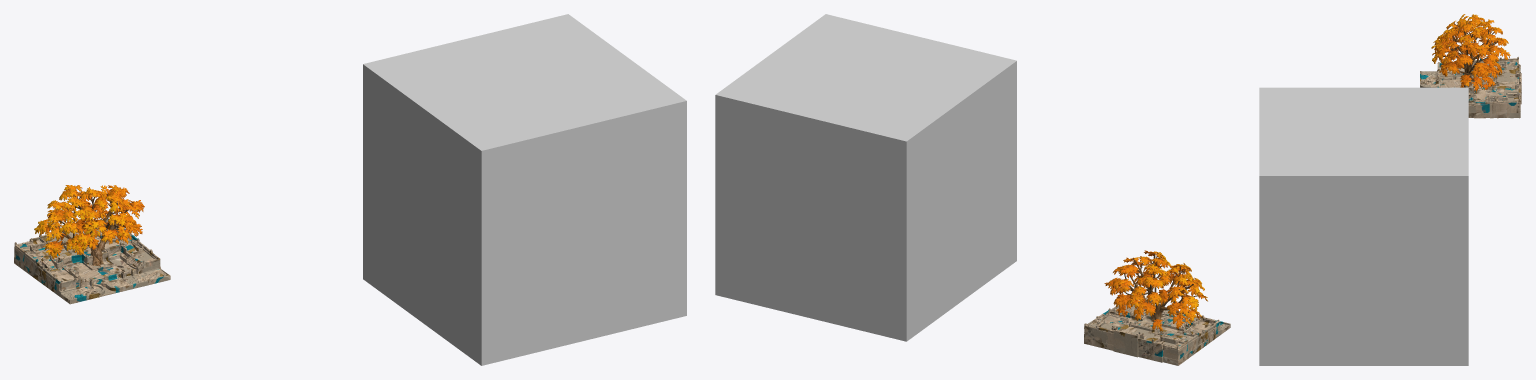
File: 14_金黄色阔冠树_2048.fbx
The picture shows the model from 3 angles, left to right: view 1: azimuth 30°, elevation 25°; view 2: azimuth 150°, elevation 25°; view 3: azimuth 270°, elevation 25°; orthographic projection. The views are drawn at different scales.
Visible parts, largest first — view 1: Cube, tripo_node_d0d8d2ea, tripo_node_e4f91a0d; view 2: Cube, tripo_node_d0d8d2ea, tripo_node_e4f91a0d; view 3: Cube, tripo_node_e4f91a0d, tripo_node_d0d8d2ea.
Part boxes in pixels (left/top/right/bottom): Cube: left=363, top=14, right=686, bottom=365; tripo_node_d0d8d2ea: left=14, top=219, right=170, bottom=304; tripo_node_e4f91a0d: left=34, top=185, right=144, bottom=265; Cube: left=715, top=14, right=1016, bottom=341; tripo_node_d0d8d2ea: left=1084, top=302, right=1230, bottom=365; tripo_node_e4f91a0d: left=1104, top=250, right=1207, bottom=331; Cube: left=1259, top=87, right=1468, bottom=365; tripo_node_e4f91a0d: left=1431, top=14, right=1510, bottom=91; tripo_node_d0d8d2ea: left=1420, top=57, right=1521, bottom=118.
Bounding box in the file's own units: 512 × 200 × 251.
